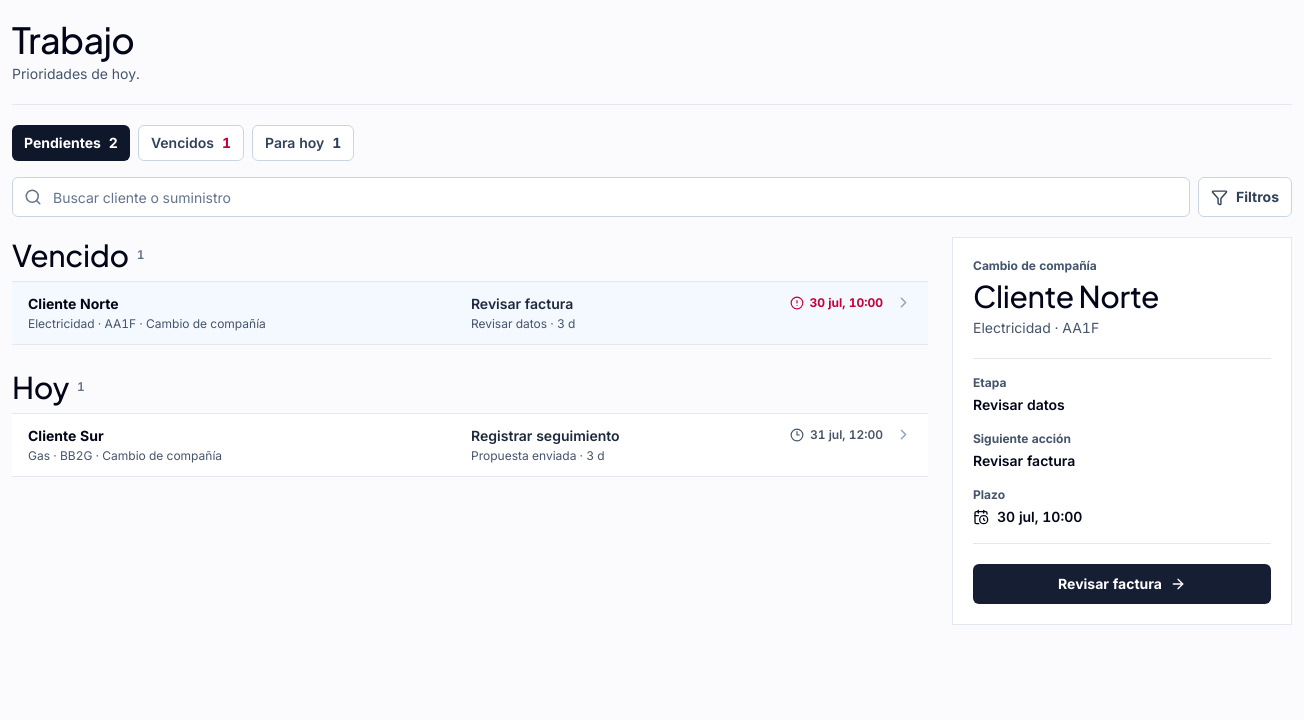
WorkQueueView › searches the same queue instead of creating another result surface
Type "BB2G" into the search field labelled "Buscar cliente o suministro". click: (601, 197)
box: left=12, top=177, right=1190, bottom=217
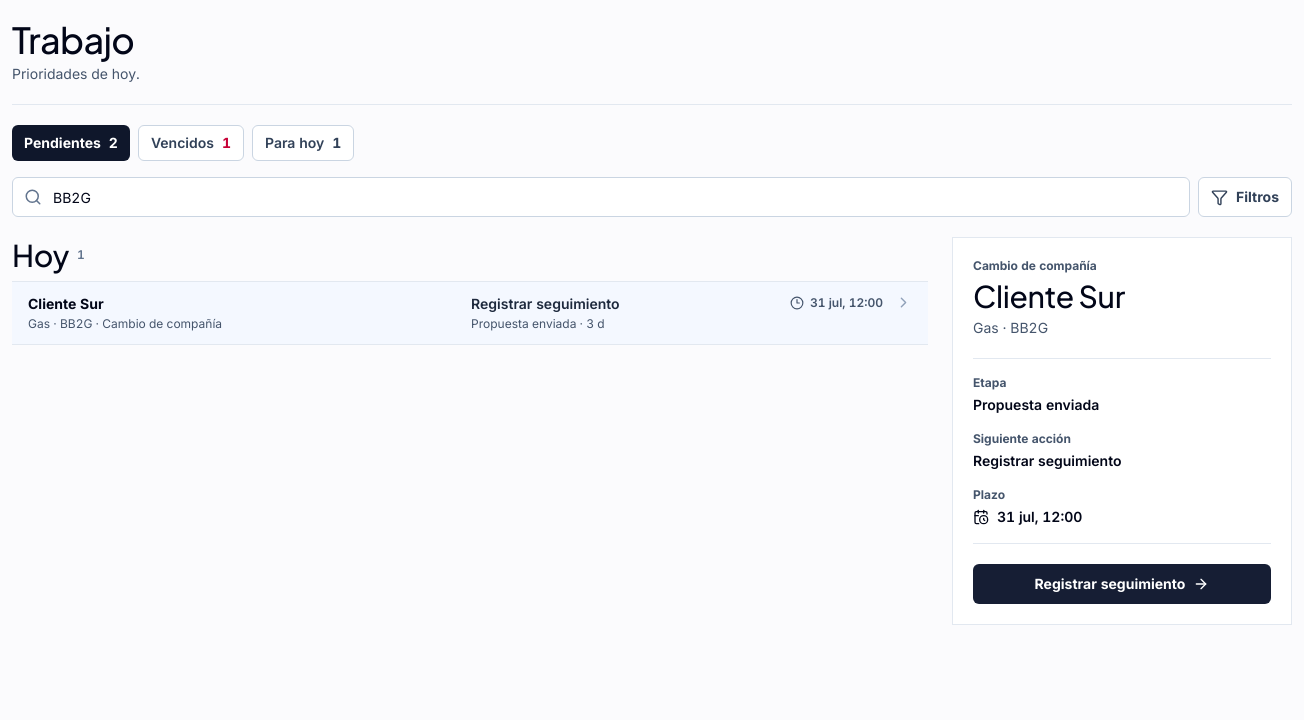
Expected: the text "Cliente Sur" is shown, left=28, top=295, right=104, bottom=312
Now the button "Cliente Norte" is gone
